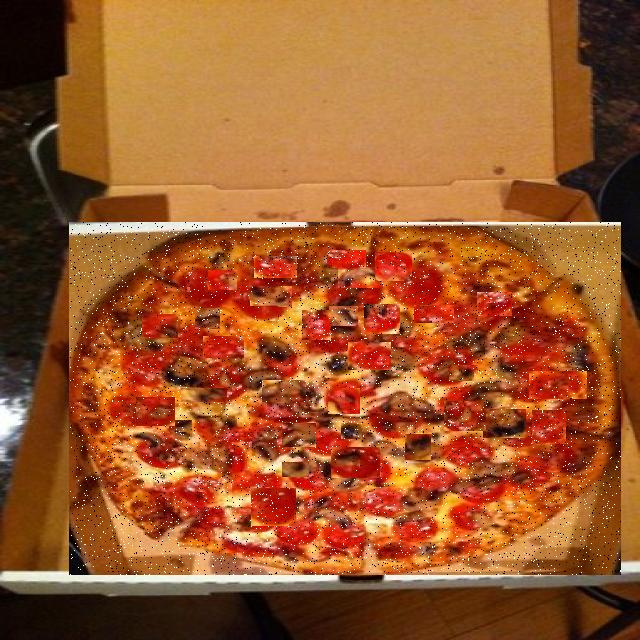Mushrooms: (483, 409, 526, 438), (464, 324, 507, 349), (262, 380, 306, 402), (338, 267, 383, 288), (250, 286, 292, 307), (521, 446, 560, 468), (282, 423, 316, 447), (169, 358, 209, 376), (405, 434, 431, 460), (181, 388, 227, 402), (207, 445, 237, 466), (330, 306, 360, 326), (410, 336, 440, 355), (254, 335, 285, 352), (195, 308, 220, 329), (528, 348, 556, 366), (450, 365, 480, 381), (282, 462, 309, 477), (235, 418, 258, 434), (341, 423, 362, 439), (376, 396, 396, 411), (169, 420, 192, 432)
Pepperoni: (406, 478, 459, 516), (251, 488, 296, 526), (529, 371, 587, 399), (331, 447, 380, 478), (463, 488, 507, 520), (444, 401, 486, 431), (348, 342, 391, 370), (136, 398, 175, 428), (532, 410, 566, 444), (376, 252, 414, 281), (364, 304, 400, 334), (254, 256, 297, 278), (236, 306, 278, 328), (203, 336, 244, 358), (302, 310, 331, 340), (142, 314, 178, 338), (477, 292, 512, 316), (328, 388, 360, 414), (279, 360, 316, 380), (414, 305, 454, 323), (327, 250, 366, 268), (208, 270, 237, 290), (191, 295, 226, 306)
Pizza: (71, 222, 621, 575)
